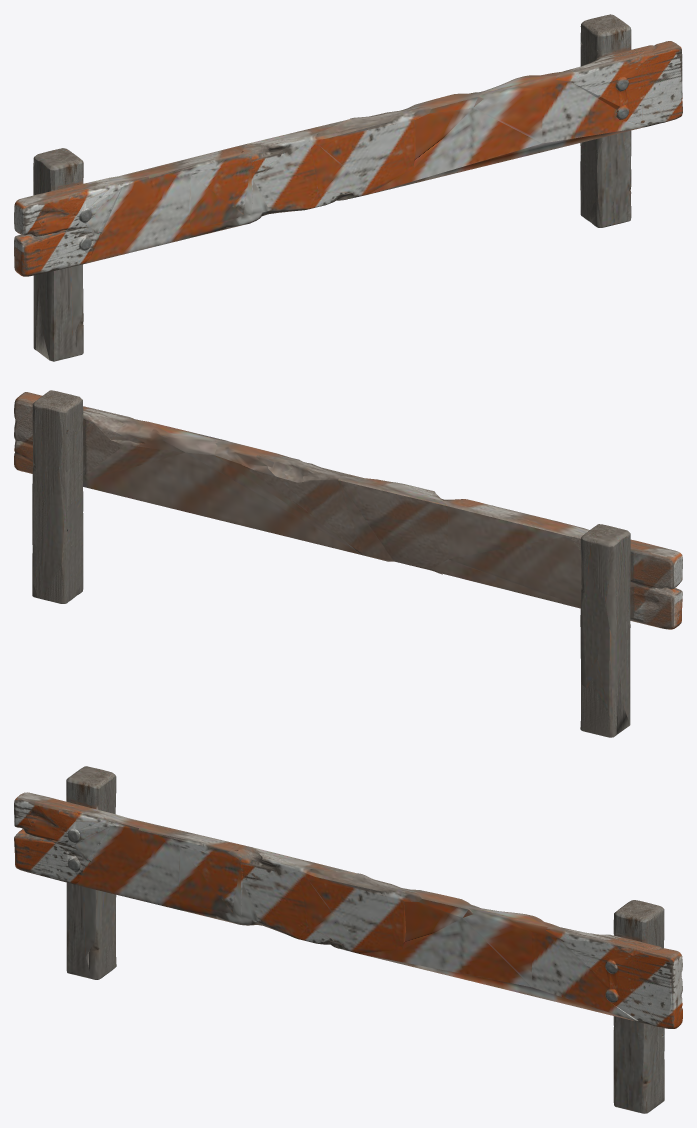
File: rail_hazard.glb
The picture shows the model from 3 angles, top to bottom: view 1: azimuth 30°, elevation 25°; view 2: azimuth 150°, elevation 25°; view 3: azimuth 330°, elevation 25°; orthographic projection.
Parts seen in each view (by area): view 1: output_unwrapped; view 2: output_unwrapped; view 3: output_unwrapped.
Part boxes in pixels (<box>): output_unwrapped: <box>14,14,682,361</box>; output_unwrapped: <box>14,390,682,737</box>; output_unwrapped: <box>14,766,682,1113</box>.
Size of the model in its own units: 1.9 by 0.5366 by 0.1659.
1 material, 1 textured.
